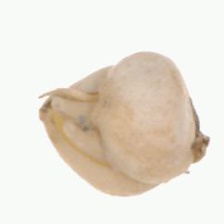L1: (36, 83, 105, 158), (183, 95, 211, 175)
L2: (37, 52, 210, 196)
